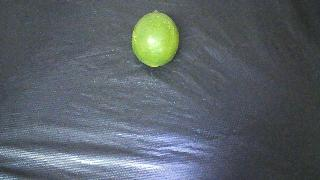LOCAL: (132, 11, 179, 67)
